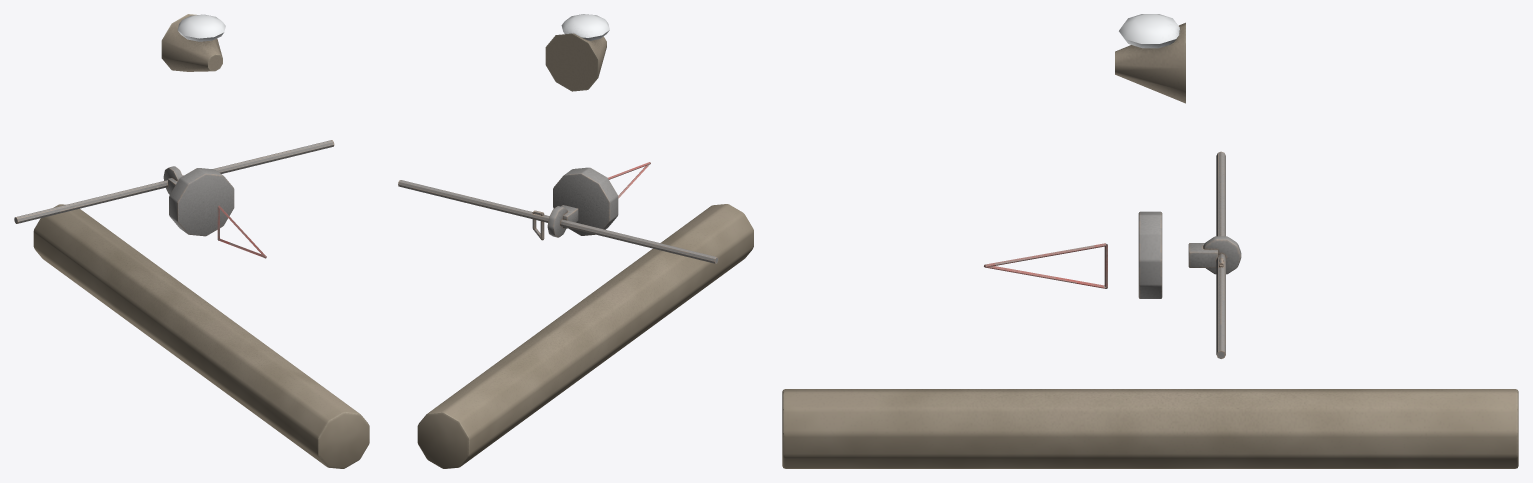
The model's file is leers_post.glb.
3 views of the same model, side by side, from view 1: azimuth 30°, elevation 25°; view 2: azimuth 150°, elevation 25°; view 3: azimuth 270°, elevation 25° (orthographic). The views are drawn at different scales.
Visible parts, largest first — view 1: leers_post; view 2: leers_post; view 3: leers_post.
Boxes of the visible parts, x1,y1,x2,y2 form: leers_post: (14,14,369,468); leers_post: (398,14,753,468); leers_post: (782,14,1518,468).
Size of the model in its own units: 0.8 by 0.8364 by 1.25.
Materials: 1 (1 with a texture image).
